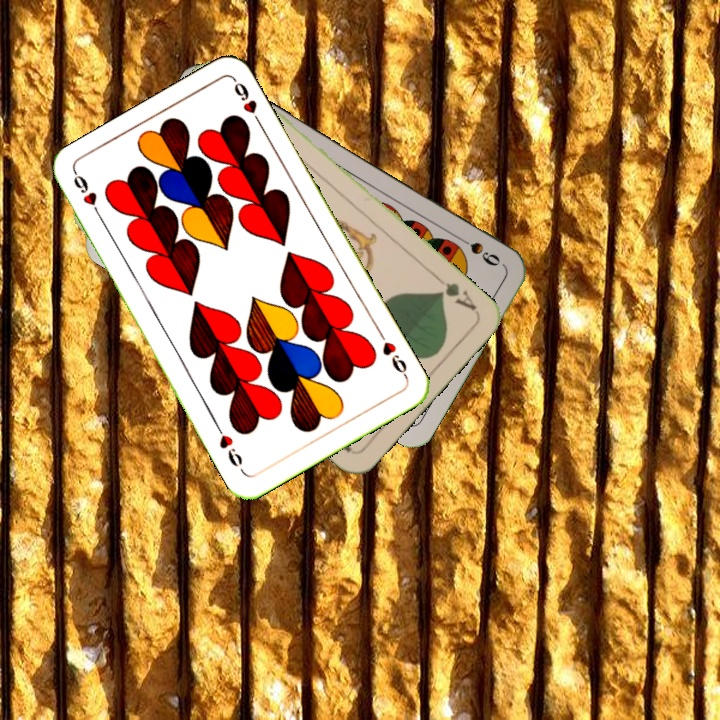GA: (430, 271, 480, 314)
H9: (69, 169, 106, 223), (375, 328, 411, 382)
S9: (452, 231, 503, 269)
